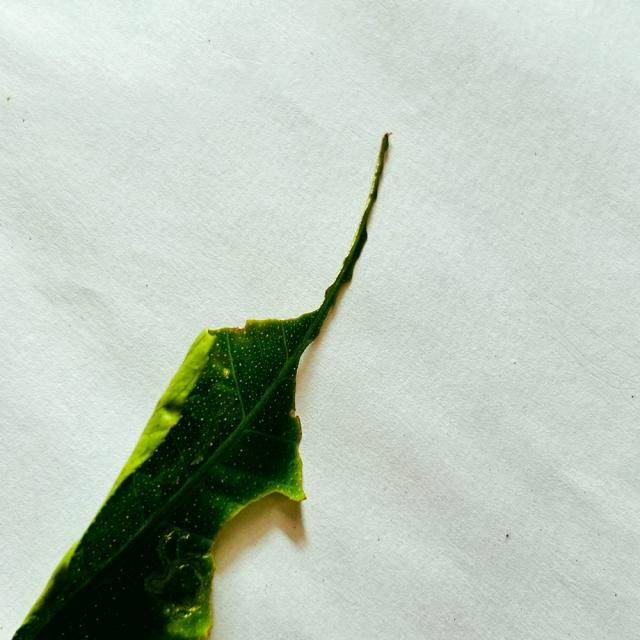Deficiency Leaf: (203, 157, 365, 331), (298, 193, 395, 478), (208, 492, 309, 639)
Lemon: (14, 136, 388, 639)
